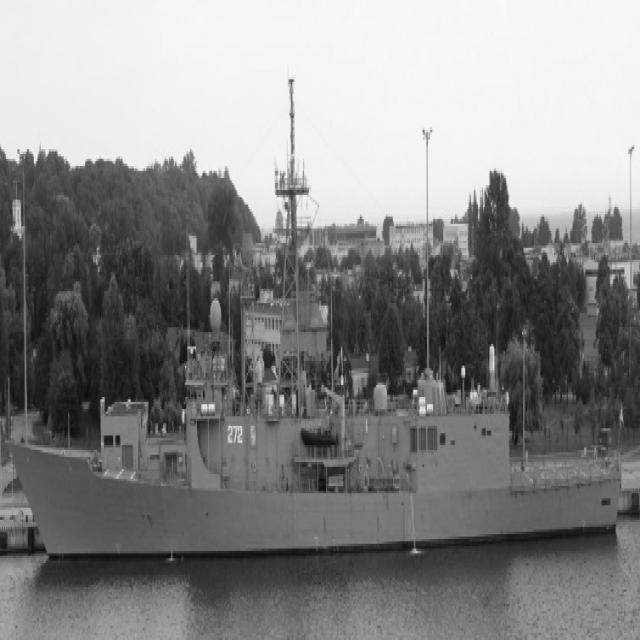Fragata: (2, 78, 626, 595)
